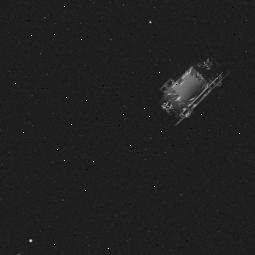lisa_pathfinder: (139, 43, 241, 136)
